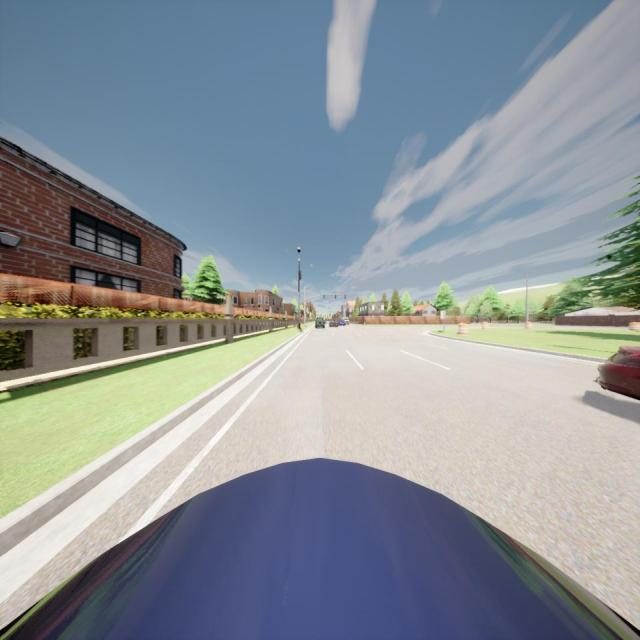Traffic_Signs: (440, 311, 446, 319)
Vehicle: (0, 456, 640, 640), (593, 344, 640, 403), (315, 317, 325, 329), (340, 317, 350, 326), (329, 319, 338, 328), (338, 320, 345, 326)
traffic_light: (299, 270, 302, 280), (323, 294, 325, 299), (344, 295, 346, 299), (335, 294, 336, 298)
